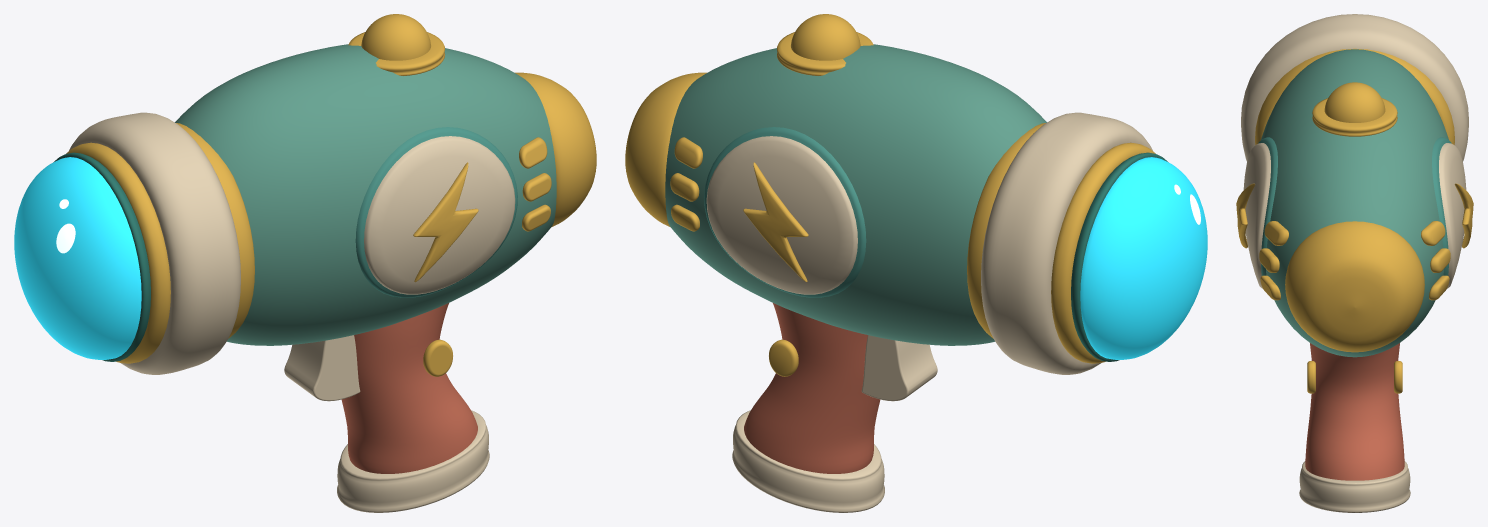
File: stun-gun.glb
3 views of the same model, side by side, from view 1: azimuth 30°, elevation 25°; view 2: azimuth 150°, elevation 25°; view 3: azimuth 270°, elevation 25° (orthographic). The views are drawn at different scales.
Visible parts, largest first — view 1: MintShell, CreamMuzzleCollar, CyanLens, CreamBadgeLeft, CoralGrip, CreamGripFoot, RearGoldCap, LensGoldSeat, CreamTrigger, BadgeBorderLeft, RearCollarGoldBand, ReadyLamp (+5 smaller); view 2: MintShell, CreamMuzzleCollar, CyanLens, CreamBadgeRight, CoralGrip, CreamGripFoot, RearGoldCap, LensGoldSeat, CreamTrigger, BadgeBorderRight, RearCollarGoldBand, ReadyLamp (+5 smaller); view 3: MintShell, RearGoldCap, CoralGrip, CreamMuzzleCollar, CreamGripFoot, CreamBadgeLeft, CreamBadgeRight, RearCollarGoldBand, ReadyLamp, ReadyLampRim, BadgeBorderLeft, BadgeBorderRight (+10 smaller).
Part boxes in pixels (x1,y1,x2,y2): MintShell: (175, 44, 556, 345); CreamMuzzleCollar: (69, 112, 240, 374); CyanLens: (14, 157, 141, 359); CreamBadgeLeft: (364, 136, 515, 294); CoralGrip: (341, 303, 477, 473); CreamGripFoot: (337, 410, 489, 512); RearGoldCap: (515, 72, 596, 227); LensGoldSeat: (66, 142, 170, 363); CreamTrigger: (284, 335, 360, 401); BadgeBorderLeft: (355, 127, 517, 297); RearCollarGoldBand: (176, 123, 254, 338); ReadyLamp: (361, 14, 430, 60); MintShell: (665, 44, 1046, 345); CreamMuzzleCollar: (981, 112, 1152, 374); CyanLens: (1080, 157, 1207, 359); CreamBadgeRight: (706, 136, 857, 294); CoralGrip: (744, 303, 880, 473); CreamGripFoot: (732, 410, 884, 512); RearGoldCap: (625, 72, 706, 227); LensGoldSeat: (1051, 142, 1155, 363); CreamTrigger: (861, 335, 937, 401); BadgeBorderRight: (704, 127, 866, 297); RearCollarGoldBand: (967, 123, 1045, 338); ReadyLamp: (791, 14, 860, 60); MintShell: (1261, 49, 1448, 357); RearGoldCap: (1285, 221, 1424, 352); CoralGrip: (1305, 343, 1404, 480); CreamMuzzleCollar: (1241, 14, 1468, 161); CreamGripFoot: (1299, 461, 1410, 512); CreamBadgeLeft: (1243, 143, 1270, 288); CreamBadgeRight: (1439, 143, 1466, 288); RearCollarGoldBand: (1255, 48, 1454, 144); ReadyLamp: (1324, 82, 1385, 122); ReadyLampRim: (1312, 98, 1397, 136); BadgeBorderLeft: (1258, 137, 1277, 275); BadgeBorderRight: (1432, 137, 1451, 275).
Bounding box in the file's own units: 1.91 × 1.6 × 0.829.
